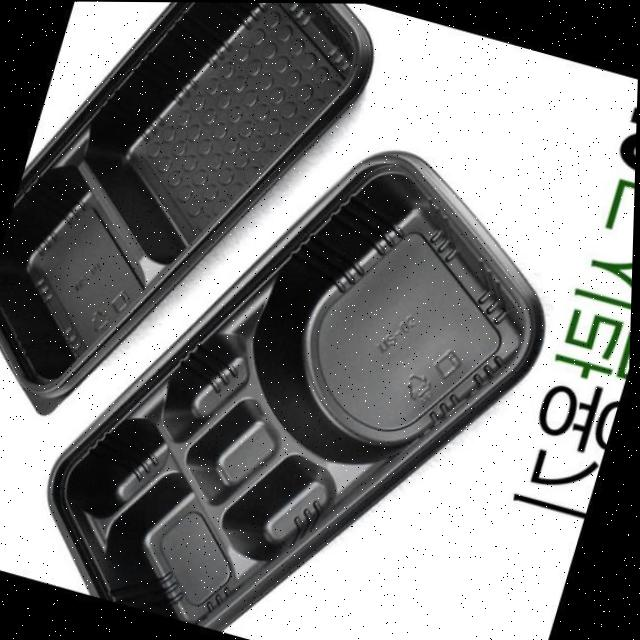disposable: (39, 139, 563, 640), (0, 0, 381, 433)
